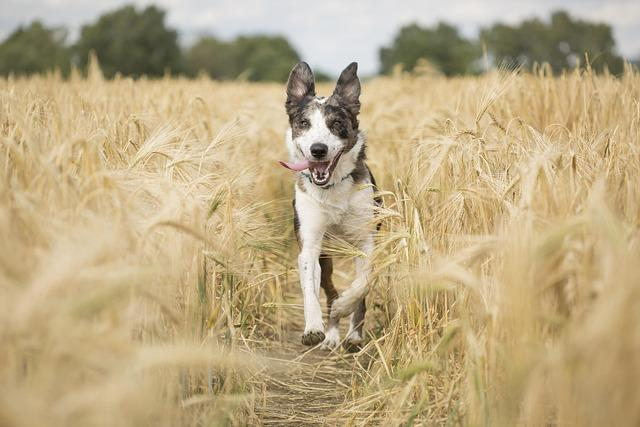Non_Gorille: (70, 5, 541, 399)
